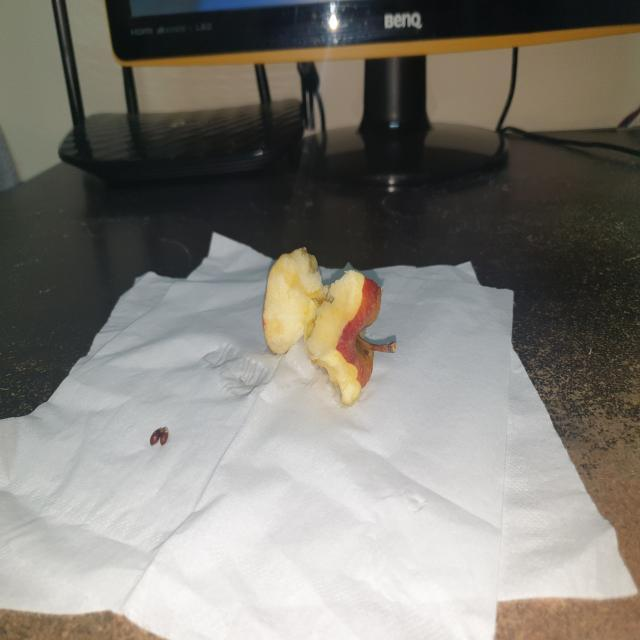apple: (254, 241, 404, 406)
